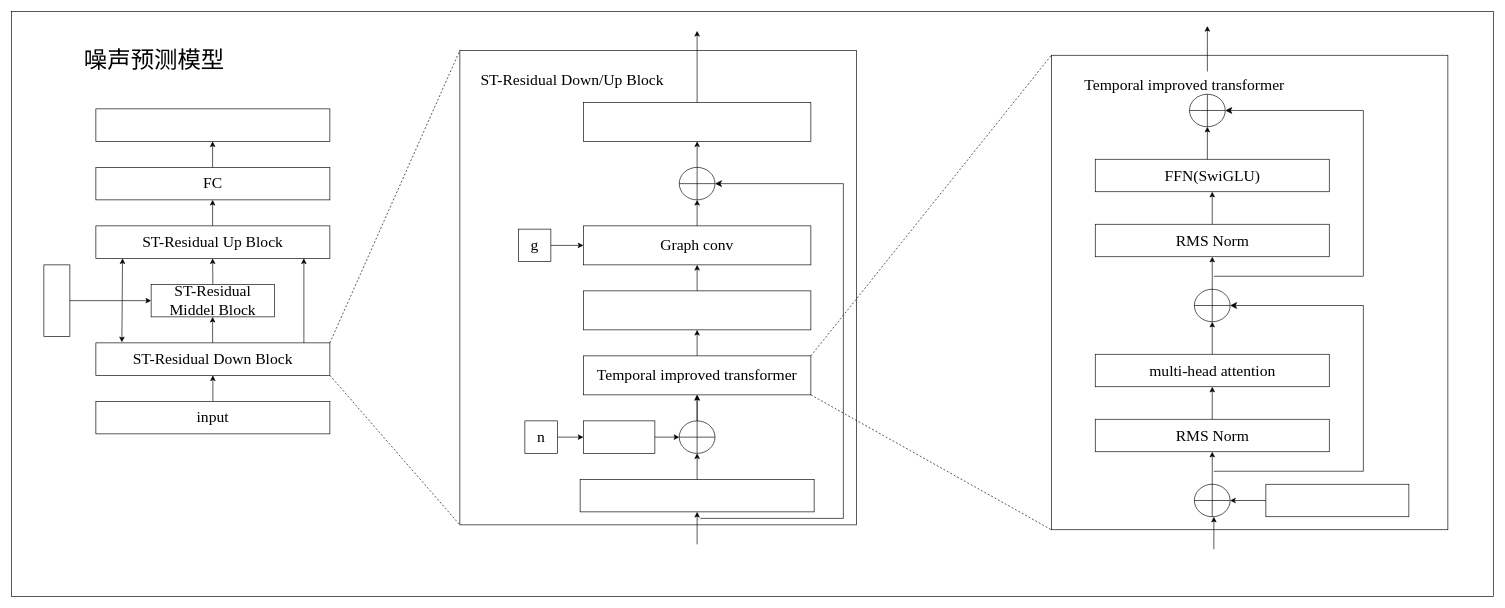
The diagram is 1505 pixels wide and 608 high, and some of its shapes have lost their labels. The shapes that lost their labels are listed below. From the top down, each one's centre as x and y in pixels, then its label:
At pixel 212 124: "output".
At pixel 697 121: "Down/Up sample".
At pixel 56 300: "g n".
At pixel 697 310: "Layer Norm".
At pixel 619 436: "embedding".
At pixel 696 495: "Temporal Conv".
At pixel 1337 500: "position embedding".
